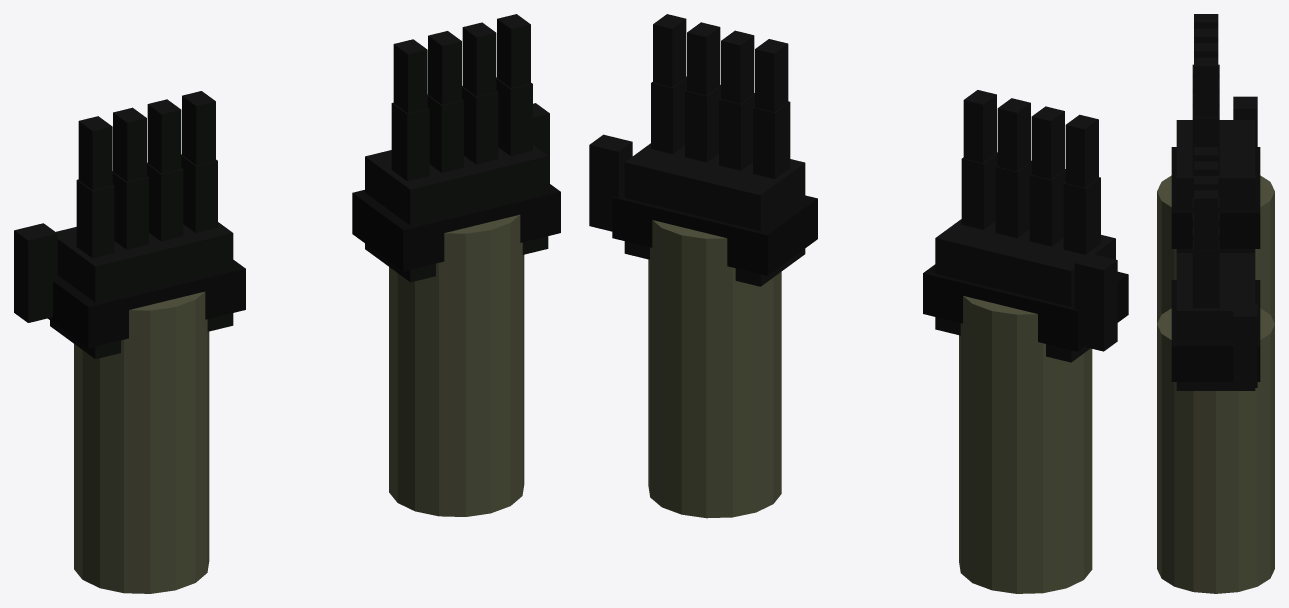
File: fps_hands_gloved_pair_idle.obj
The picture shows the model from 3 angles, left to right: view 1: azimuth 30°, elevation 25°; view 2: azimuth 150°, elevation 25°; view 3: azimuth 270°, elevation 25°; orthographic projection. The views are drawn at different scales.
Visible parts, largest first — view 1: fps_hands_gloved_pair_idle; view 2: fps_hands_gloved_pair_idle; view 3: fps_hands_gloved_pair_idle.
Boxes of the visible parts, bbox=[...] form: fps_hands_gloved_pair_idle: bbox=[14, 14, 560, 593]; fps_hands_gloved_pair_idle: bbox=[589, 14, 1128, 593]; fps_hands_gloved_pair_idle: bbox=[1157, 14, 1274, 593].
Size of the model in its own units: 1.06 by 0.89 by 0.24.
